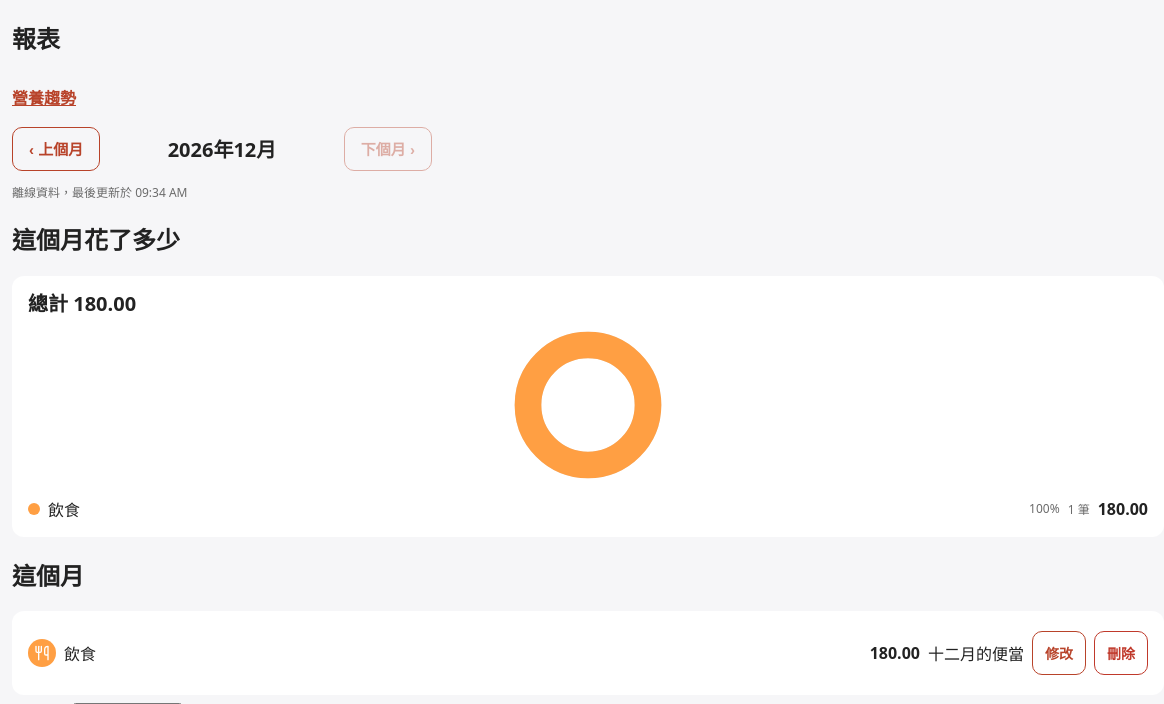
Test: 報表：重抓失敗時留著這個月的資料 › 連不上後端時翻到沒看過的月份：說讀不到，上一個月的數字與離線標示都不留在新的月份底下
Expected: the text "離線資料，最後更新於 09:34 AM" is shown, [12,184,188,201]
Expected: the text "十二月的便當" is shown, [928,641,1024,665]
Step 1. Click the button "‹ 上個月" → click(56, 149), box [12,127,100,171]
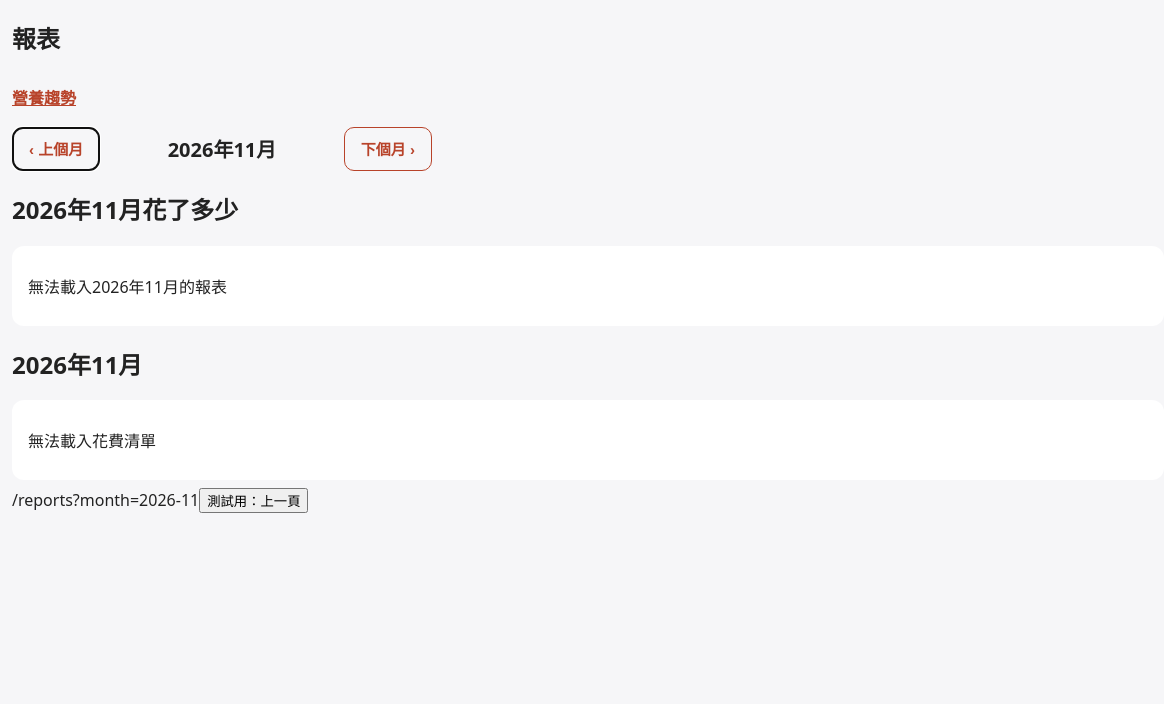
Expected: the message reads "2026年11月", [168,136,276,163]
Expected: the text "無法載入2026年11月的報表" is shown, [28,276,227,298]
Expected: the text "無法載入花費清單" is shown, [28,430,156,452]
翻回來：十二月自己的資料與標示都還在。
Step 2. Click the button "下個月 ›" → click(388, 149), box [344,127,432,171]
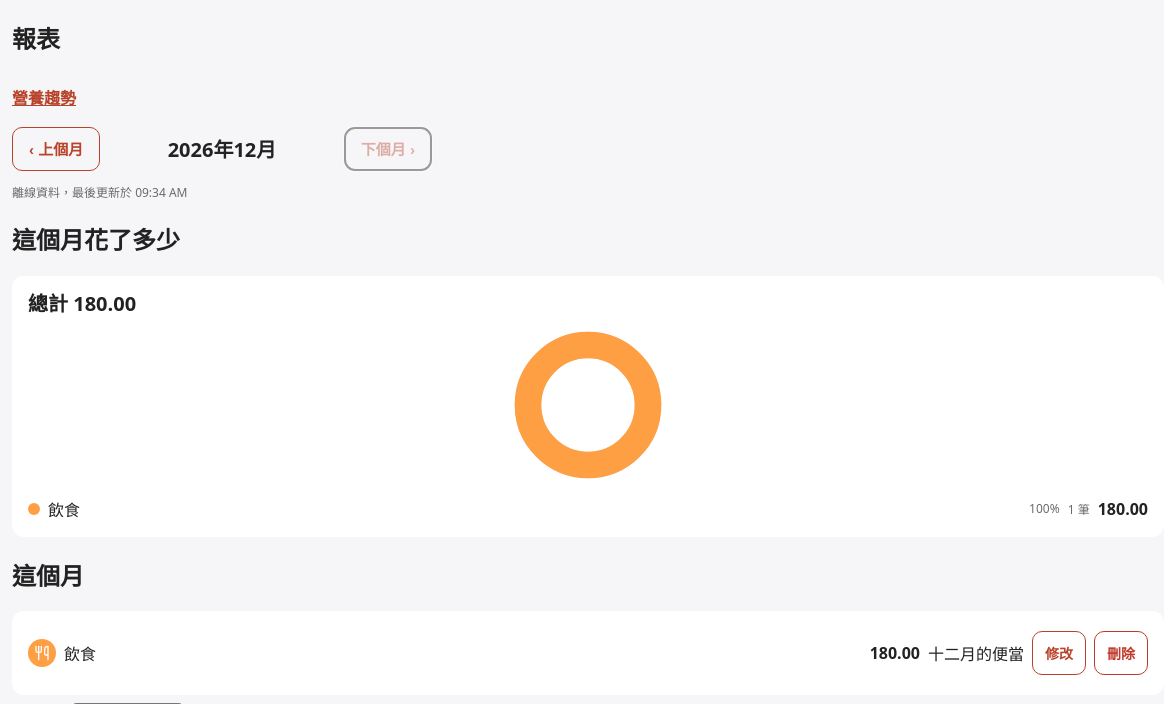
Expected: the text "十二月的便當" is shown, [928,641,1024,665]
Expected: the text "無法載入" is gone
